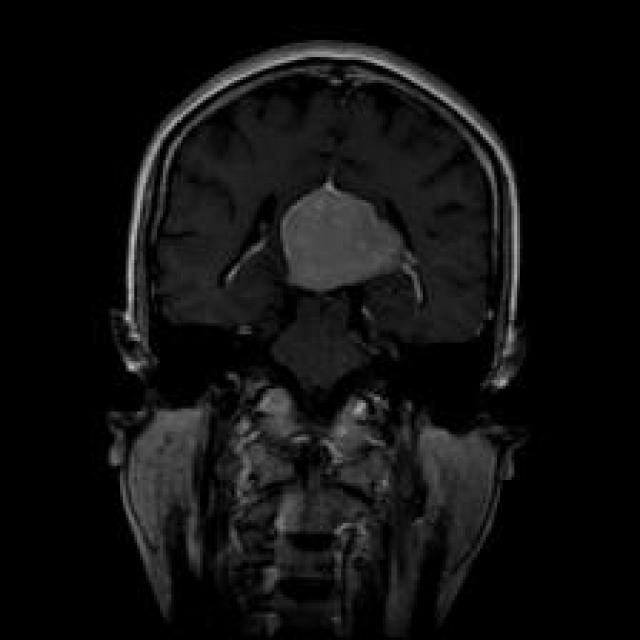meningioma_tumor: (270, 178, 422, 310)
